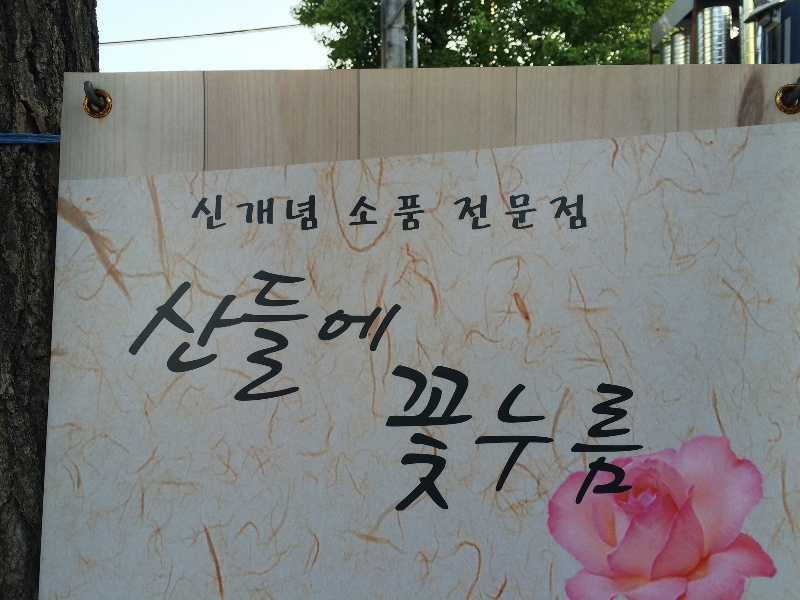text: (641, 358, 657, 520), (401, 358, 416, 520), (417, 358, 432, 520), (433, 358, 448, 520), (449, 358, 464, 520), (465, 358, 480, 520), (481, 358, 496, 520), (497, 358, 512, 520), (513, 358, 528, 520), (529, 358, 544, 520), (545, 358, 560, 520), (561, 358, 576, 520), (577, 358, 592, 520), (593, 358, 608, 520), (609, 358, 624, 520), (625, 358, 640, 520), (193, 259, 208, 413), (209, 259, 224, 413), (225, 259, 240, 413), (241, 259, 256, 413), (257, 259, 272, 413), (273, 259, 288, 413), (289, 259, 304, 413), (305, 259, 320, 413), (321, 259, 336, 413), (337, 259, 352, 413), (353, 259, 368, 413), (369, 259, 384, 413), (385, 259, 400, 413), (401, 259, 416, 413), (387, 358, 400, 520), (181, 259, 192, 413), (353, 192, 368, 236), (369, 192, 384, 236), (385, 192, 400, 236), (401, 192, 416, 236), (193, 193, 208, 235), (209, 193, 224, 235), (225, 193, 240, 235), (241, 193, 256, 235), (257, 193, 272, 235), (273, 193, 288, 235), (289, 193, 304, 235), (305, 193, 320, 235), (465, 193, 480, 233), (481, 193, 496, 233), (497, 193, 512, 233), (513, 193, 528, 233), (529, 193, 544, 233), (545, 193, 560, 233), (561, 193, 576, 233), (452, 193, 464, 233), (577, 193, 589, 233), (417, 192, 426, 236), (349, 192, 352, 236), (189, 193, 192, 235)
